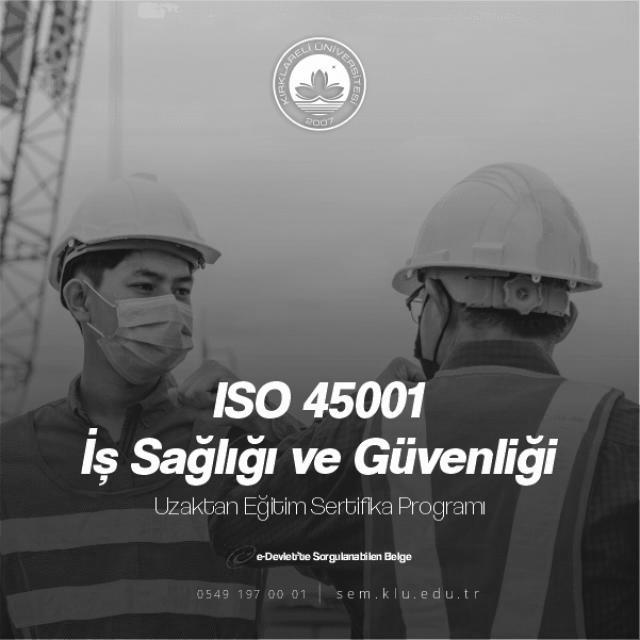construction helmet: (392, 163, 602, 347), (46, 176, 221, 295)
